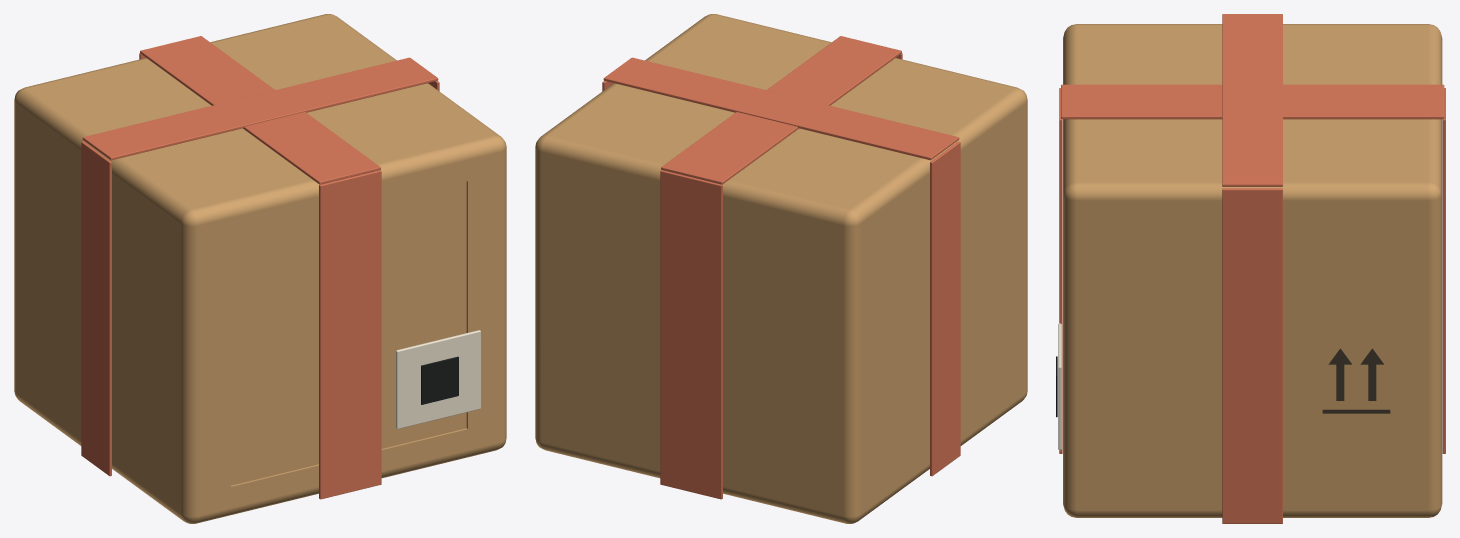
Rendered from play-parcel-large-coral.glb.
3 renders of one model, left to right at view 1: azimuth 30°, elevation 25°; view 2: azimuth 150°, elevation 25°; view 3: azimuth 270°, elevation 25°, orthographic. The views are drawn at different scales.
Parts seen in each view (by area): view 1: Parcel_Carton, Parcel_Tape_Front_Back_0095, Parcel_Tape_Top_Cross, Parcel_Tape_Sides_-01, Parcel_Tape_Top_Length, Parcel_Paper_Label, Parcel_Label_Square; view 2: Parcel_Carton, Parcel_Tape_Front_Back_-0095, Parcel_Tape_Top_Cross, Parcel_Tape_Sides_-01, Parcel_Tape_Top_Length; view 3: Parcel_Carton, Parcel_Tape_Sides_01, Parcel_Tape_Top_Length, Parcel_Tape_Top_Cross, Parcel_Up_Arrows_Positive_X, Parcel_Tape_Front_Back_-0095, Parcel_Tape_Front_Back_0095, Parcel_Paper_Label.
Boxes of the visible parts, box(x1,y1,x2,y2) form: Parcel_Carton: box(14, 14, 506, 523); Parcel_Tape_Front_Back_0095: box(319, 170, 381, 499); Parcel_Tape_Top_Cross: box(82, 57, 438, 160); Parcel_Tape_Sides_-01: box(81, 141, 111, 476); Parcel_Tape_Top_Length: box(140, 36, 380, 184); Parcel_Paper_Label: box(395, 330, 480, 429); Parcel_Label_Square: box(421, 356, 458, 404); Parcel_Carton: box(535, 14, 1027, 523); Parcel_Tape_Front_Back_-0095: box(660, 170, 722, 499); Parcel_Tape_Top_Cross: box(603, 57, 959, 160); Parcel_Tape_Sides_-01: box(930, 141, 960, 476); Parcel_Tape_Top_Length: box(661, 36, 901, 184); Parcel_Carton: box(1063, 24, 1442, 517); Parcel_Tape_Sides_01: box(1222, 188, 1282, 523); Parcel_Tape_Top_Length: box(1061, 84, 1444, 119); Parcel_Tape_Top_Cross: box(1222, 14, 1282, 186); Parcel_Up_Arrows_Positive_X: box(1322, 348, 1390, 413); Parcel_Tape_Front_Back_-0095: box(1442, 88, 1445, 453); Parcel_Tape_Front_Back_0095: box(1059, 88, 1062, 453); Parcel_Paper_Label: box(1058, 323, 1061, 450).
Size of the model in its own units: 0.2037 by 0.1877 by 0.1954.
